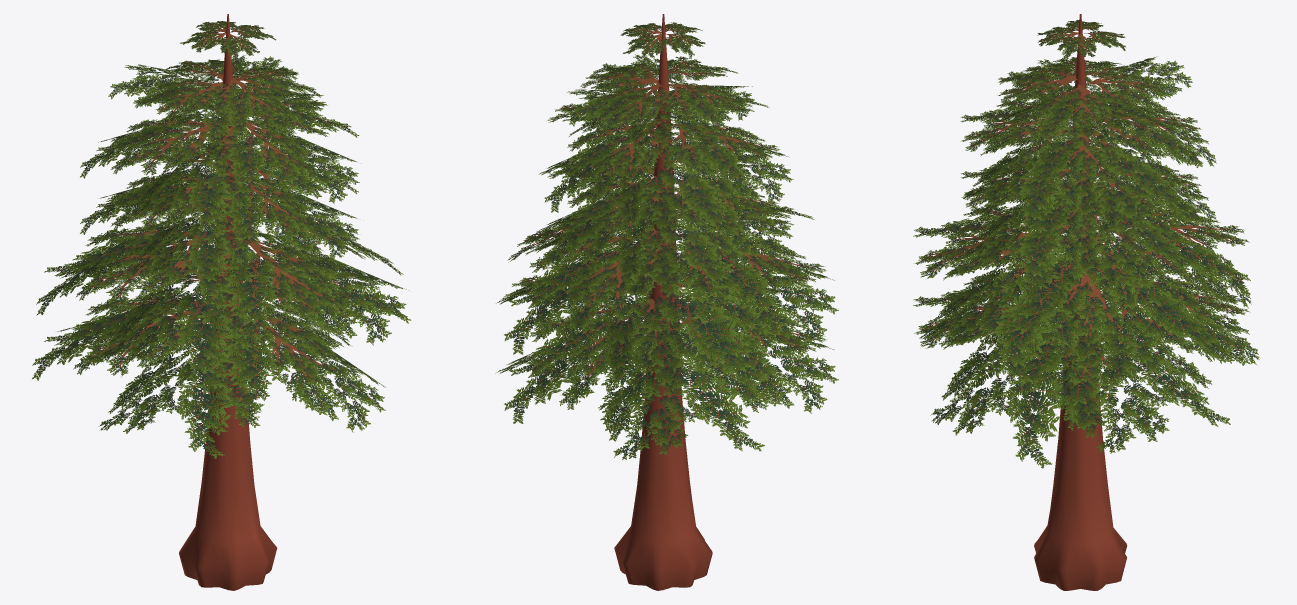
The model's file is low poly red tre wack.fbx.
The picture shows the model from 3 angles, left to right: view 1: azimuth 30°, elevation 25°; view 2: azimuth 150°, elevation 25°; view 3: azimuth 270°, elevation 25°; orthographic projection.
Parts seen in each view (by area): view 1: Circle; view 2: Circle; view 3: Circle.
Part boxes in pixels (x1,y1,x2,y2): Circle: [32, 14, 411, 590]; Circle: [495, 14, 838, 590]; Circle: [913, 14, 1259, 590].
Size of the model in its own units: 3502 by 5516 by 3510.
Materials: 3 (2 with a texture image).
